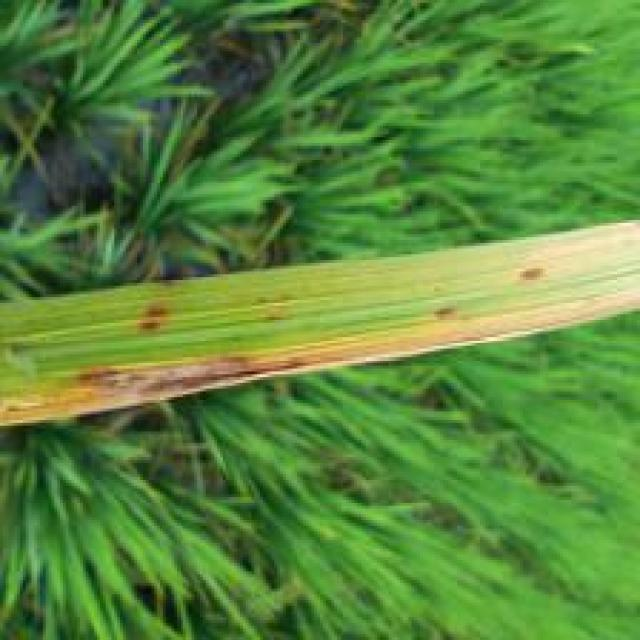Bacterial_Leaf_Blight: (0, 285, 640, 420)
